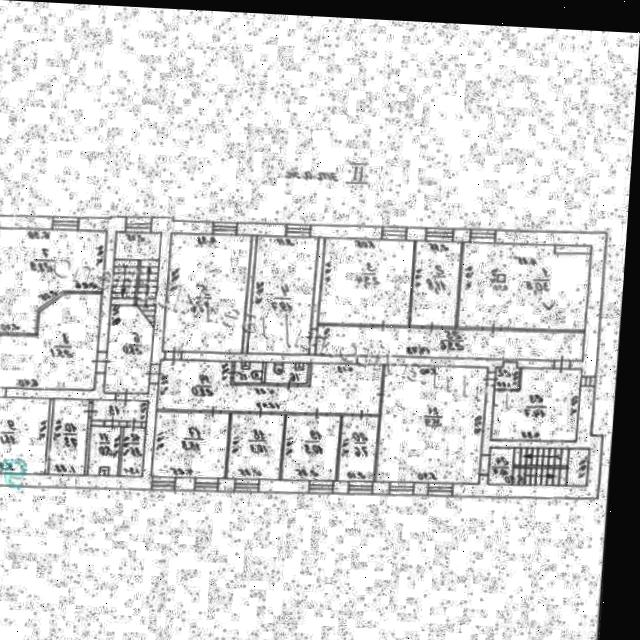room: (378, 365, 488, 491), (158, 362, 383, 418), (458, 246, 592, 333), (0, 229, 106, 336), (163, 233, 250, 357), (0, 293, 101, 391), (317, 328, 586, 364), (105, 233, 160, 397), (319, 237, 412, 331), (248, 236, 317, 358), (492, 372, 581, 445), (152, 414, 229, 480), (410, 244, 461, 331), (282, 415, 340, 485), (228, 414, 284, 483), (488, 452, 588, 490), (0, 398, 50, 474), (50, 399, 89, 477), (339, 418, 379, 485), (89, 426, 120, 478), (122, 428, 146, 478), (93, 402, 148, 421), (266, 365, 309, 386), (495, 366, 520, 394), (235, 364, 264, 384)
